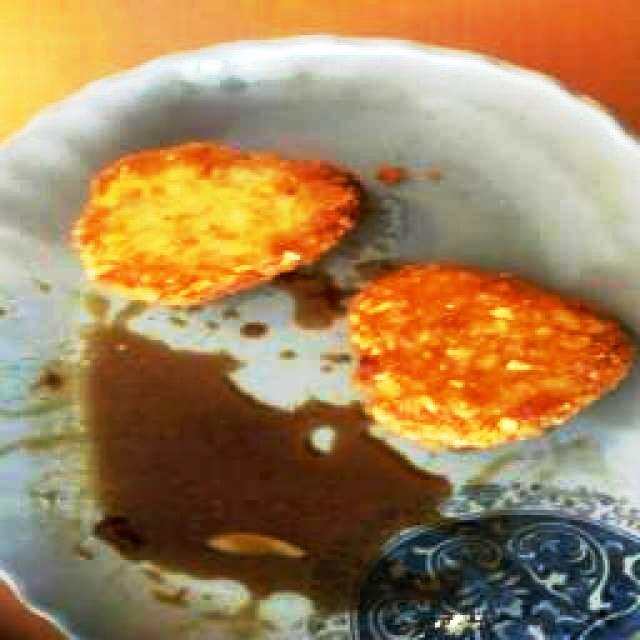Hashbrown: (354, 263, 633, 448), (76, 147, 359, 310)
